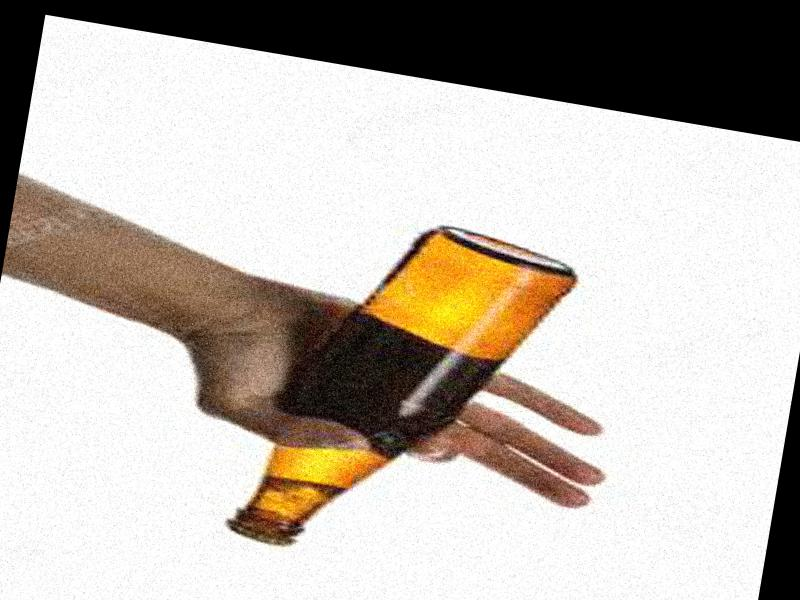Beer: (232, 201, 572, 578)
